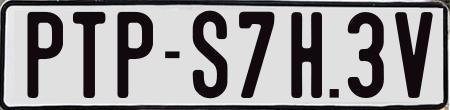3: (347, 9, 384, 101)
7: (239, 12, 275, 99)
H: (290, 11, 327, 100)
P: (27, 12, 68, 103), (115, 12, 154, 98)
S: (193, 9, 232, 101)
T: (73, 9, 109, 100)
V: (393, 10, 432, 99)
